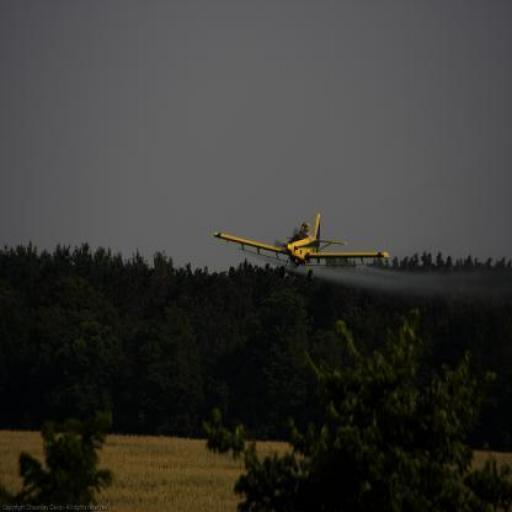aircraft: (212, 210, 394, 280)
